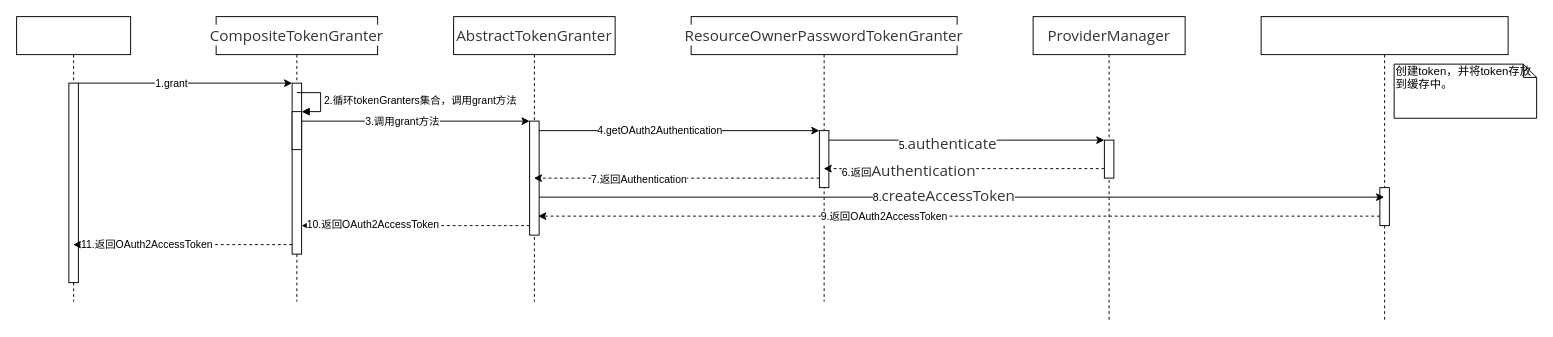
This 1553x337 diagram has some shape labels left out. The box of each missing label's shape, as (x1, y1, x2, y2) in pixels:
DefaultTokenServices: (1260, 16, 1508, 321)
TokenEndpoint: (16, 16, 131, 302)
